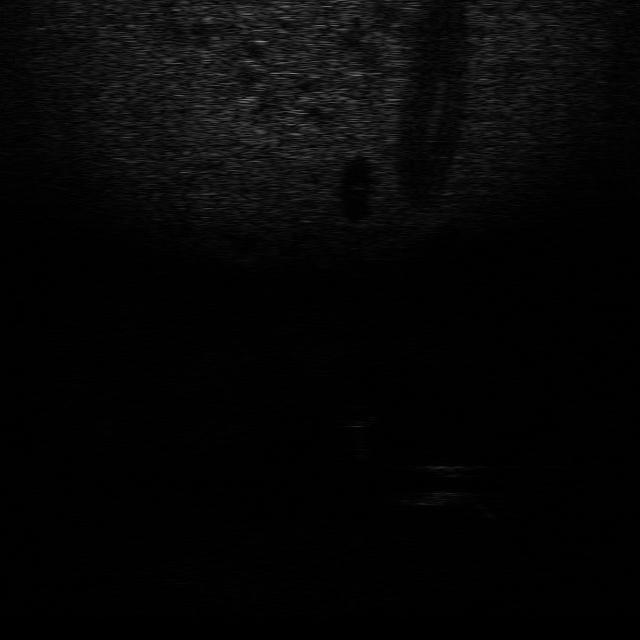ball: (334, 402, 380, 431)
tyre: (388, 458, 473, 508)
